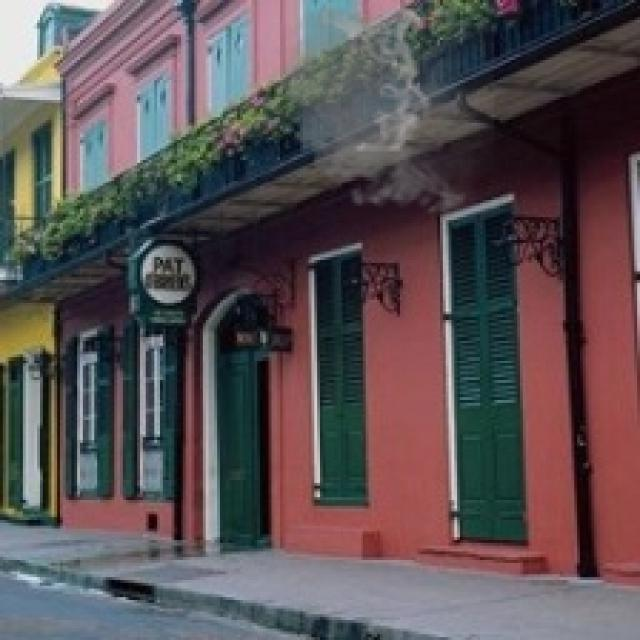smoke: (260, 0, 494, 220)
